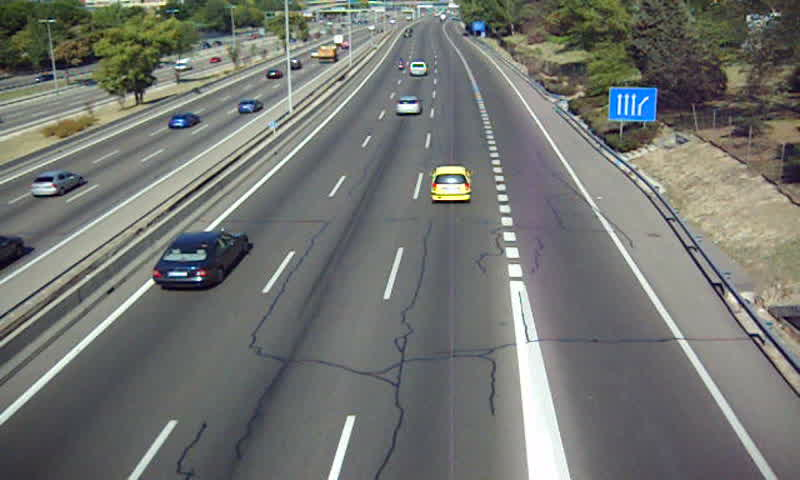car: (152, 232, 248, 292), (430, 166, 474, 199), (396, 95, 421, 116), (409, 60, 428, 77)
